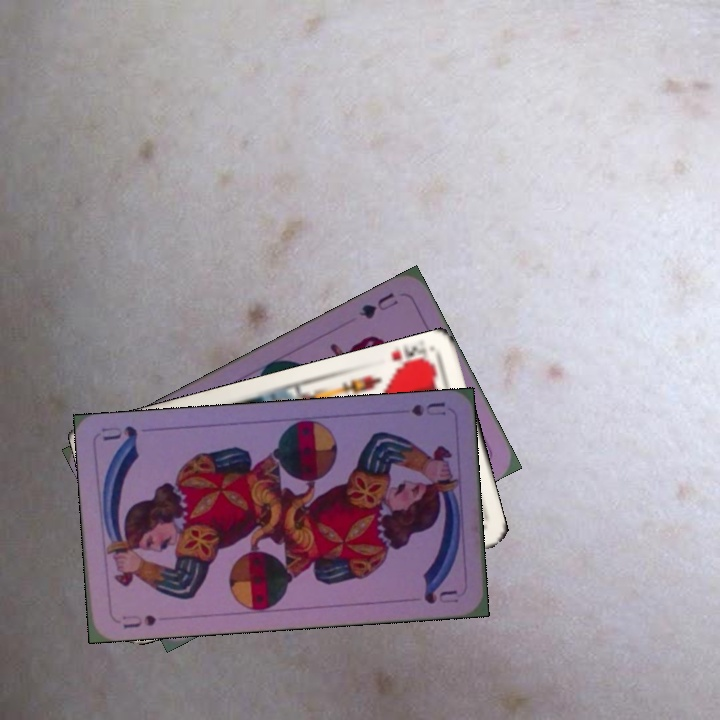GU: (355, 288, 401, 322)
HK: (386, 342, 436, 377)
SU: (407, 398, 448, 419), (118, 610, 159, 631)
